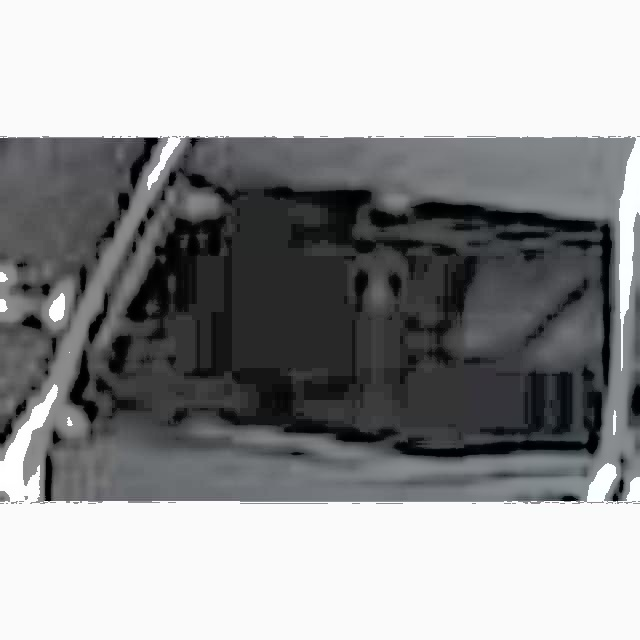pakai: (451, 225, 604, 393)
